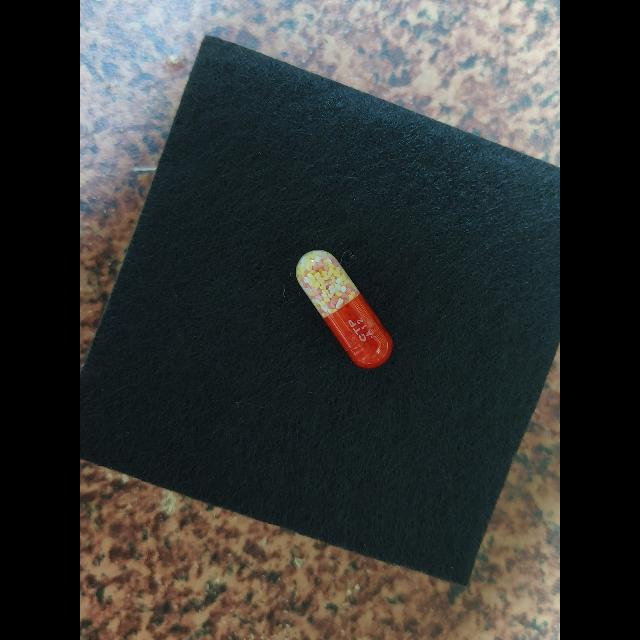Intact Capsule: (296, 250, 393, 369)
